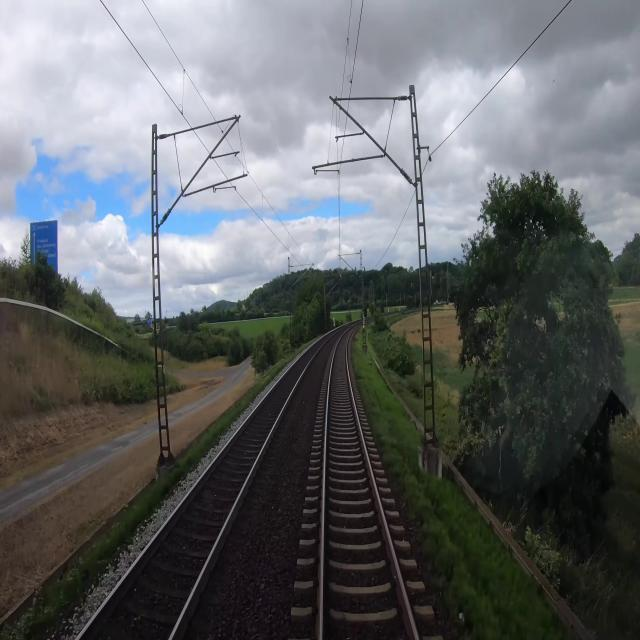Plant: (351, 334, 509, 639)
